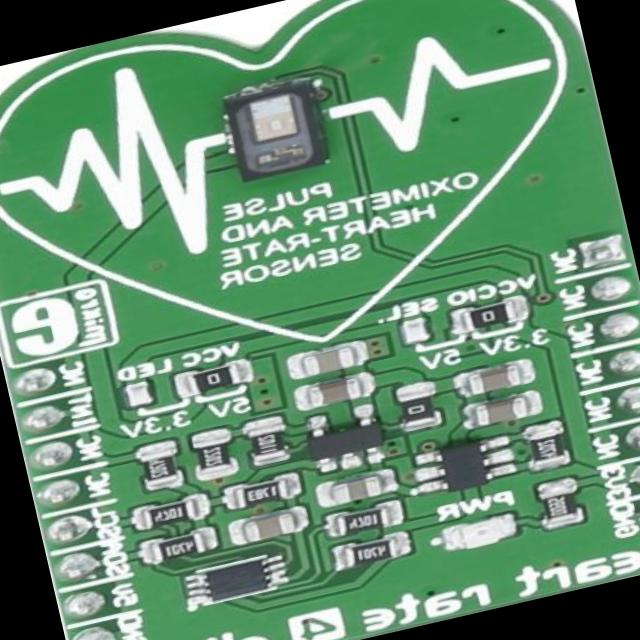IC: (222, 78, 334, 189), (297, 409, 391, 475), (416, 433, 514, 496), (186, 552, 283, 608)
LED: (442, 516, 515, 554)
capacitor: (454, 360, 530, 400), (298, 370, 370, 410), (287, 344, 361, 382), (234, 508, 302, 547), (470, 390, 536, 427), (323, 474, 392, 507)
resistor: (146, 525, 212, 566), (456, 296, 519, 336), (182, 358, 246, 396), (328, 501, 394, 536), (336, 534, 400, 568), (230, 474, 288, 508), (528, 424, 572, 468), (540, 478, 580, 522), (140, 498, 198, 528), (242, 424, 284, 462), (396, 388, 434, 426), (140, 448, 178, 486), (196, 436, 228, 473)
